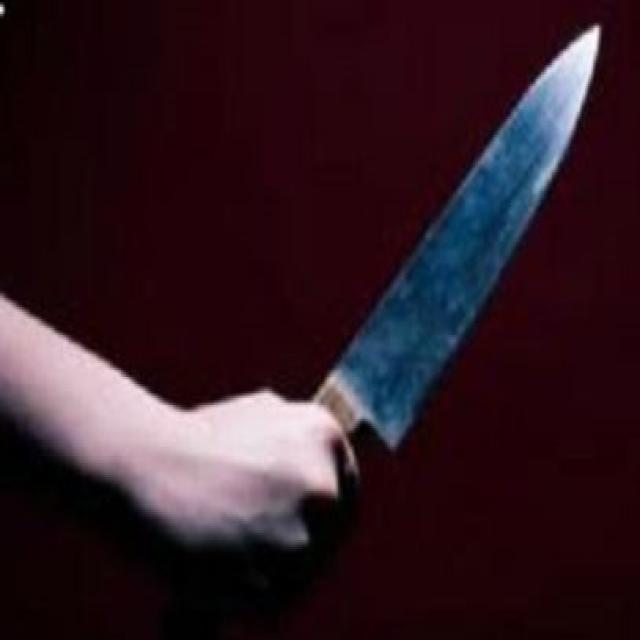knife: (320, 17, 605, 474)
